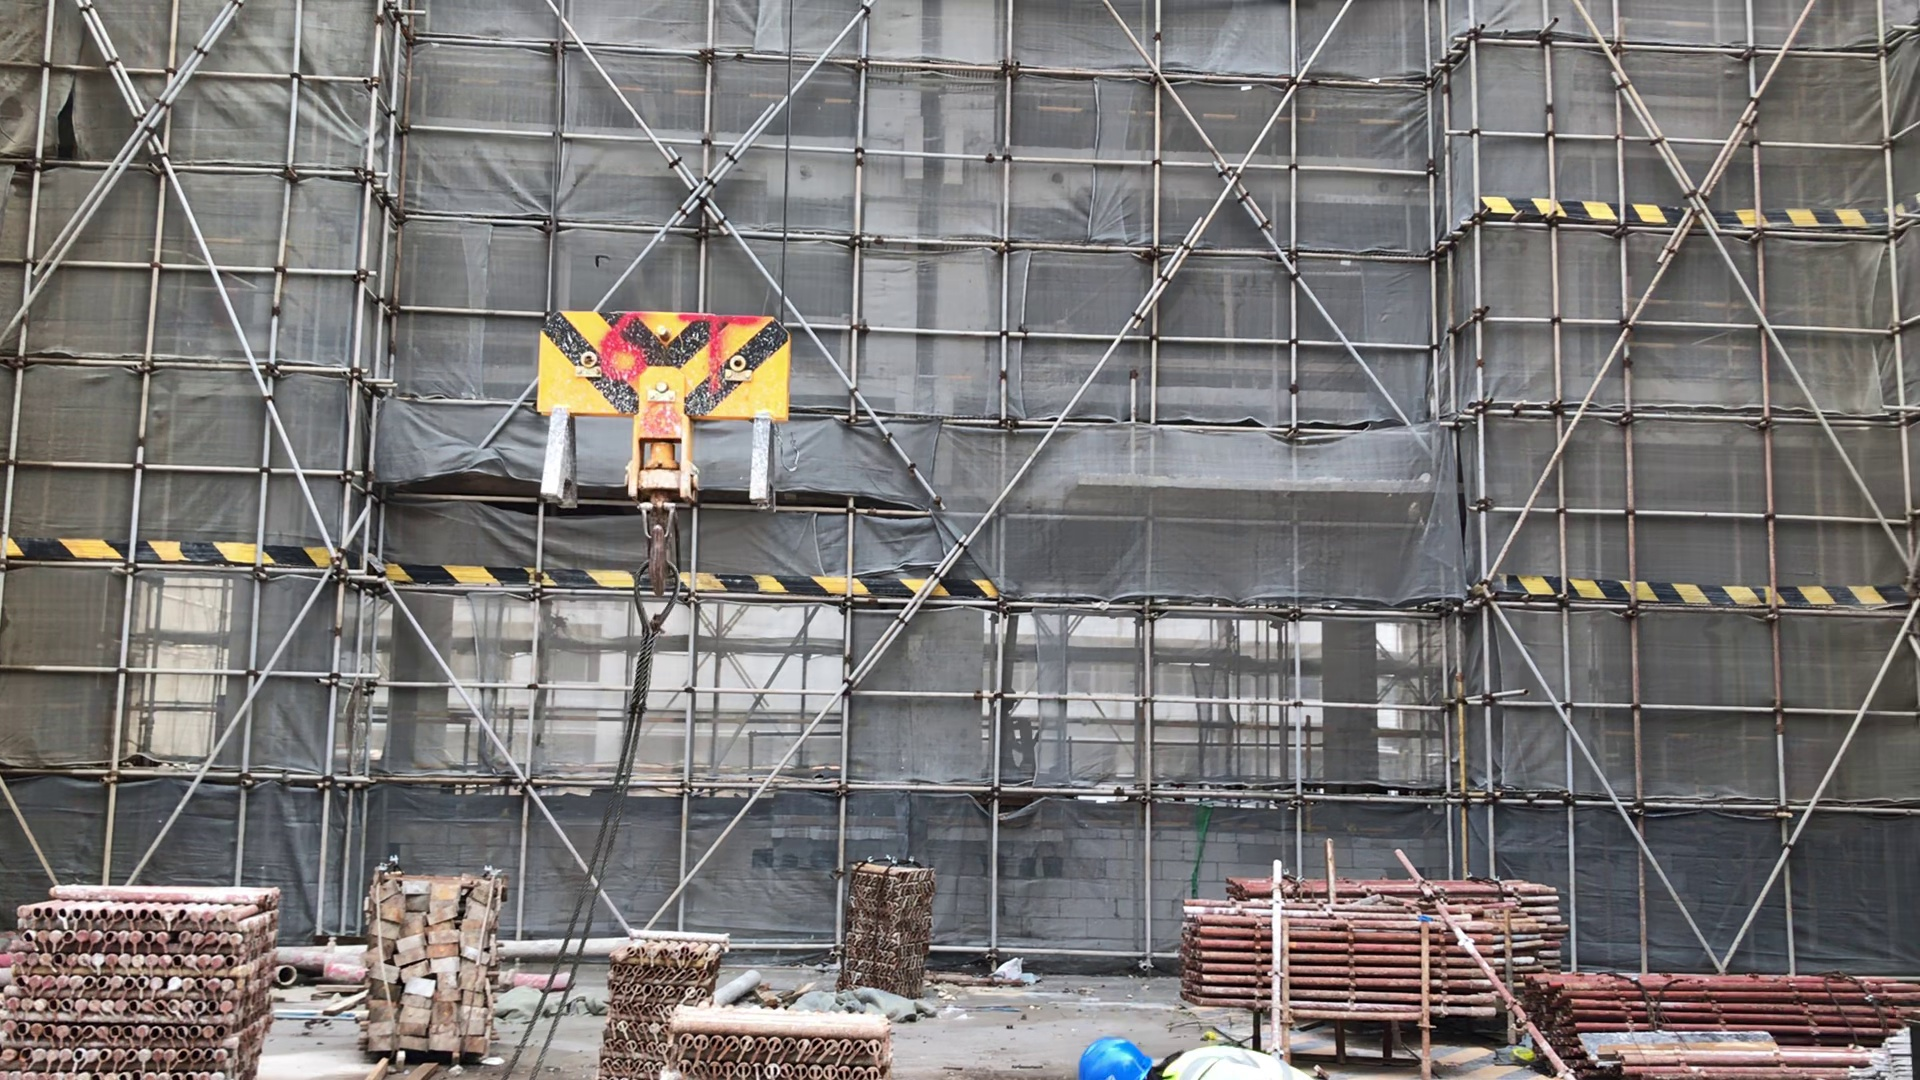helmet: (1071, 1024, 1165, 1080)
hook: (510, 247, 872, 741)
person: (1070, 1023, 1323, 1080)
scaffold: (1160, 834, 1920, 1072), (2, 854, 285, 1080)
vest: (1171, 1037, 1312, 1080)
wood: (357, 849, 500, 1073)
